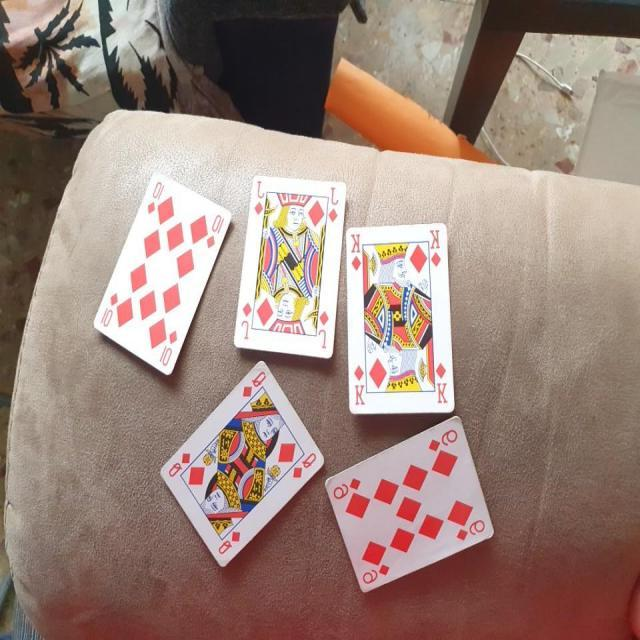10 of diamonds: (91, 169, 234, 379)
9 of diamonds: (326, 414, 497, 593)
jack of diamonds: (232, 172, 348, 361)
king of diamonds: (343, 220, 458, 418)
queen of diamonds: (160, 358, 328, 569)
